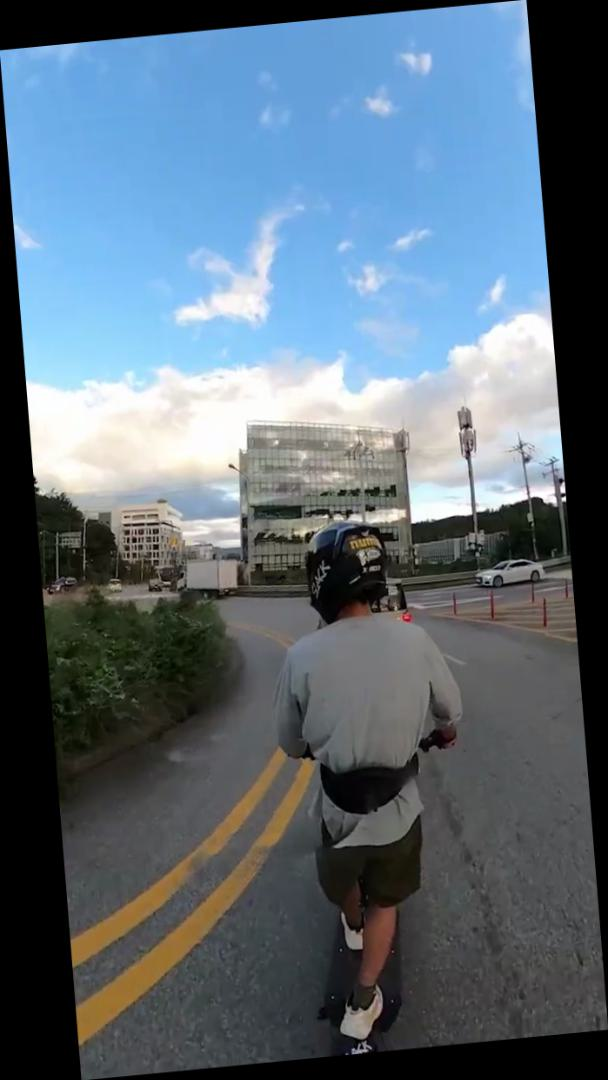helmet: (256, 508, 491, 1060)
